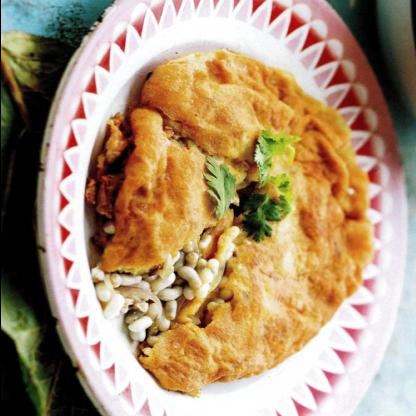Omelette: (68, 42, 372, 406)
